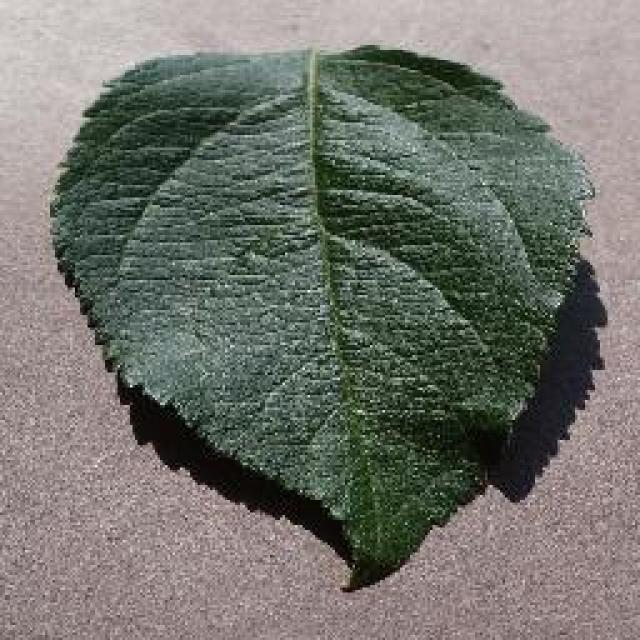apple healthy: (45, 40, 597, 588)
